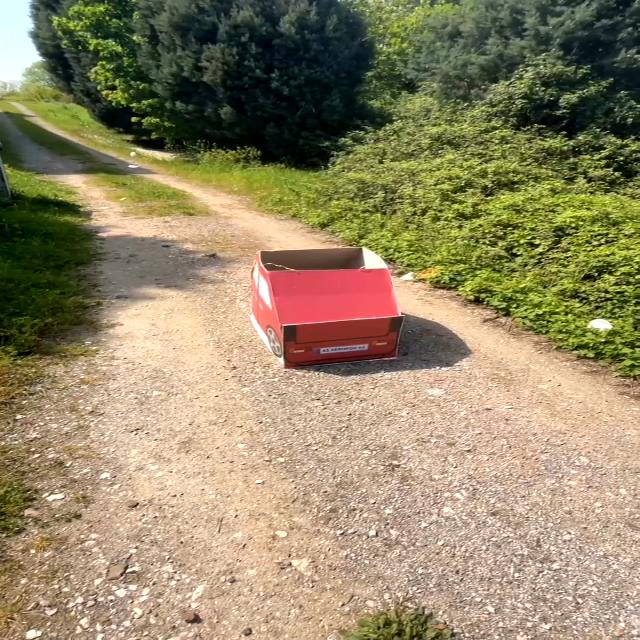red_car: (236, 242, 442, 383)
